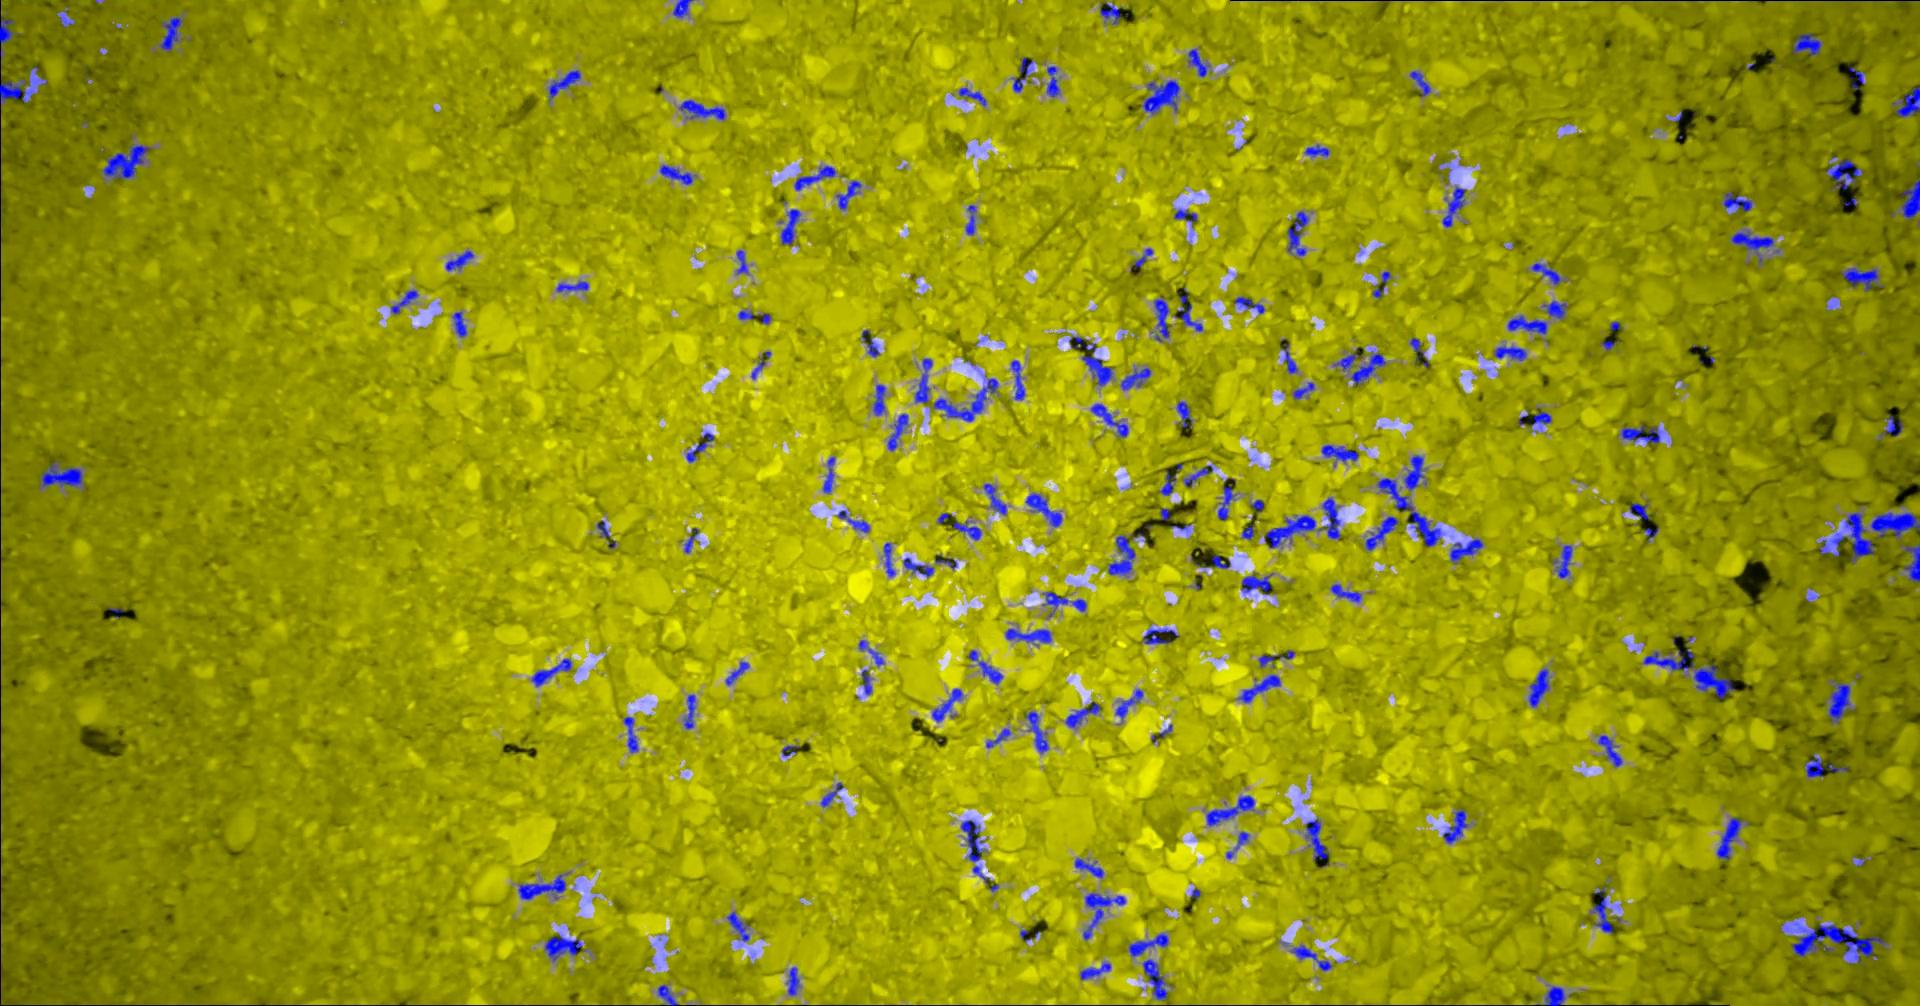ant: (1378, 478, 1443, 546), (1266, 497, 1342, 547), (935, 379, 999, 420), (1070, 337, 1112, 385), (1084, 893, 1128, 939), (104, 144, 152, 178), (1109, 532, 1147, 575), (1208, 795, 1256, 826), (1848, 512, 1876, 561), (1144, 79, 1181, 114), (1092, 403, 1129, 437), (1176, 287, 1204, 332), (1872, 512, 1920, 537), (519, 874, 568, 899), (1239, 674, 1283, 702), (1352, 351, 1387, 385), (1027, 493, 1063, 526), (1291, 944, 1335, 970), (1829, 158, 1864, 189), (533, 658, 573, 686), (1368, 516, 1399, 550), (1830, 680, 1855, 721), (1718, 817, 1743, 859), (546, 934, 584, 962), (796, 165, 837, 191), (1144, 959, 1170, 1000), (1444, 185, 1468, 227), (42, 462, 84, 486), (963, 819, 987, 861), (933, 688, 964, 721), (550, 70, 582, 100), (1289, 211, 1310, 255), (1806, 754, 1850, 776), (1, 74, 36, 102), (1027, 711, 1050, 753), (681, 99, 728, 119), (1594, 887, 1614, 934), (1732, 231, 1775, 253), (1307, 818, 1330, 859), (1044, 591, 1088, 611), (1130, 934, 1170, 956), (687, 432, 716, 462), (1444, 809, 1469, 843), (1067, 702, 1102, 727), (916, 358, 935, 403), (1843, 267, 1879, 290), (1, 15, 22, 55), (1219, 478, 1238, 520), (1451, 539, 1484, 563), (837, 180, 863, 210), (1117, 688, 1144, 718), (1901, 178, 1920, 218), (1623, 423, 1661, 443), (1530, 668, 1550, 706), (1599, 735, 1624, 766), (1404, 453, 1426, 489), (161, 17, 184, 50), (889, 413, 909, 450), (1895, 86, 1920, 116), (662, 164, 697, 184), (1162, 462, 1183, 495), (1509, 315, 1548, 333), (1156, 295, 1171, 340), (1335, 347, 1365, 370), (1243, 572, 1274, 594), (728, 911, 750, 941), (985, 483, 1007, 514), (1015, 56, 1034, 91), (782, 208, 801, 244), (860, 639, 885, 666), (1794, 32, 1822, 55), (392, 290, 420, 312), (1821, 533, 1849, 556), (1007, 627, 1053, 641), (1123, 367, 1152, 389), (1185, 465, 1214, 486), (1323, 445, 1360, 461), (1260, 649, 1297, 666), (1556, 545, 1575, 577), (1190, 48, 1211, 76), (1533, 263, 1561, 285), (1905, 542, 1920, 582), (954, 520, 983, 540), (1131, 248, 1154, 273), (1411, 70, 1432, 97), (447, 250, 475, 271), (752, 351, 772, 379), (1081, 962, 1112, 979), (1076, 857, 1105, 876), (1881, 415, 1905, 438), (980, 661, 1004, 683), (822, 782, 844, 807), (1012, 359, 1026, 399), (1332, 583, 1363, 601), (1724, 192, 1752, 211), (598, 520, 617, 547), (1144, 627, 1178, 643), (728, 661, 750, 683), (905, 558, 935, 575), (960, 86, 987, 105), (1236, 296, 1266, 312), (863, 329, 881, 357), (625, 716, 639, 752), (1284, 343, 1299, 373), (988, 728, 1012, 747), (1496, 345, 1528, 359), (1101, 3, 1123, 23), (659, 984, 681, 1005), (684, 694, 697, 728), (824, 456, 836, 493), (1531, 406, 1553, 426), (1545, 300, 1568, 318), (875, 384, 888, 415), (1175, 210, 1199, 226), (1048, 66, 1060, 97), (1545, 986, 1566, 1005), (885, 542, 897, 575), (1630, 502, 1651, 520), (455, 311, 469, 337), (1178, 401, 1192, 427), (686, 527, 700, 553), (789, 967, 801, 995), (1850, 66, 1865, 89), (1411, 337, 1425, 361), (674, 0, 695, 17), (557, 281, 590, 291), (936, 554, 957, 569), (1295, 382, 1316, 398), (1305, 144, 1330, 156), (850, 518, 871, 532), (738, 249, 749, 273), (1213, 554, 1232, 568), (1236, 831, 1250, 850), (968, 205, 977, 234), (863, 669, 872, 694), (1244, 525, 1256, 539), (783, 746, 801, 754), (1252, 499, 1265, 511), (740, 310, 756, 319)
